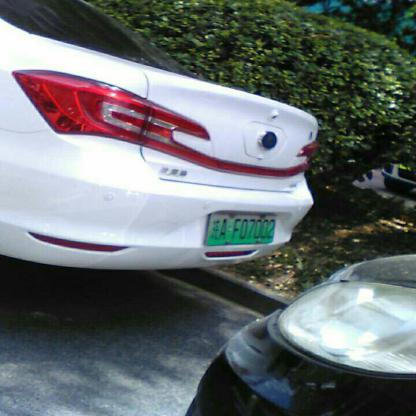lp: (206, 213, 277, 245)
